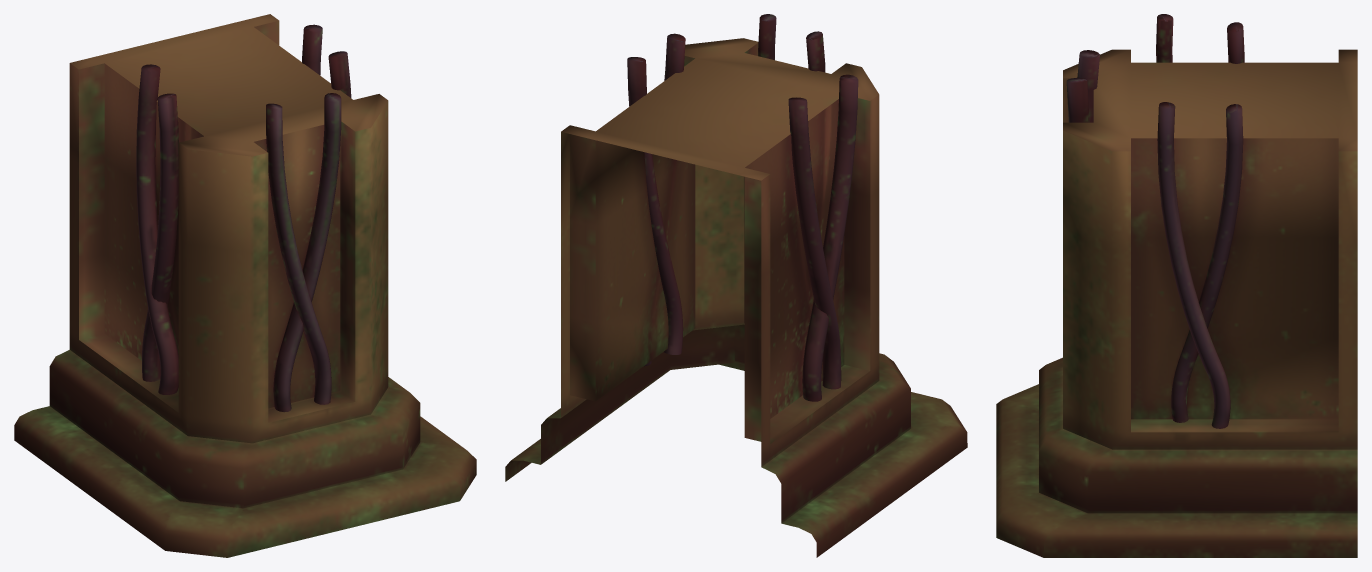
Rendered from ColumnaRota.fbx.
The picture shows the model from 3 angles, left to right: view 1: azimuth 30°, elevation 25°; view 2: azimuth 150°, elevation 25°; view 3: azimuth 270°, elevation 25°; orthographic projection. The views are drawn at different scales.
Parts seen in each view (by area): view 1: Cube.111; view 2: Cube.111; view 3: Cube.111.
Boxes of the visible parts, x1=… form: Cube.111: x1=14, y1=14, x2=476, y2=557; Cube.111: x1=505, y1=14, x2=967, y2=557; Cube.111: x1=996, y1=14, x2=1357, y2=557.
Bounding box in the file's own units: 1.8 × 2.2 × 1.74.
